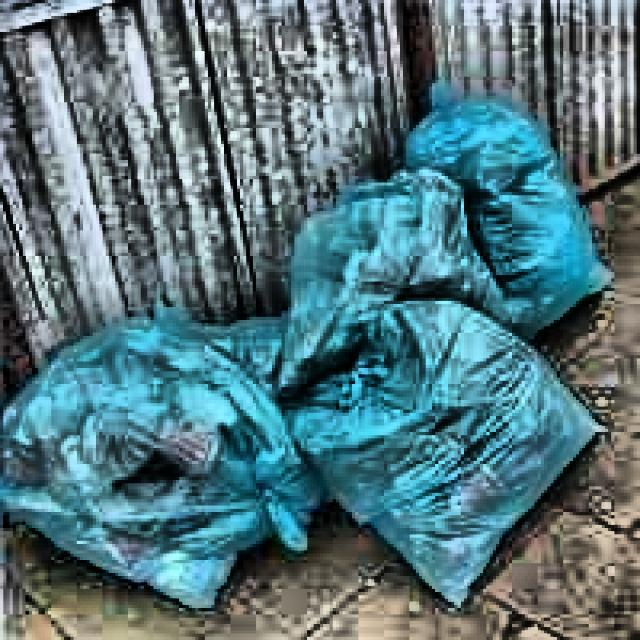Plastic: (5, 299, 320, 613), (293, 314, 611, 608), (417, 77, 623, 345)
